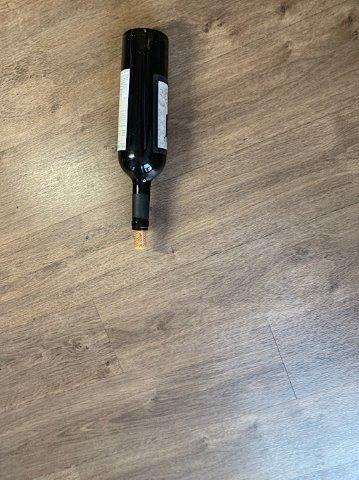botolkaca: (119, 29, 169, 230)
